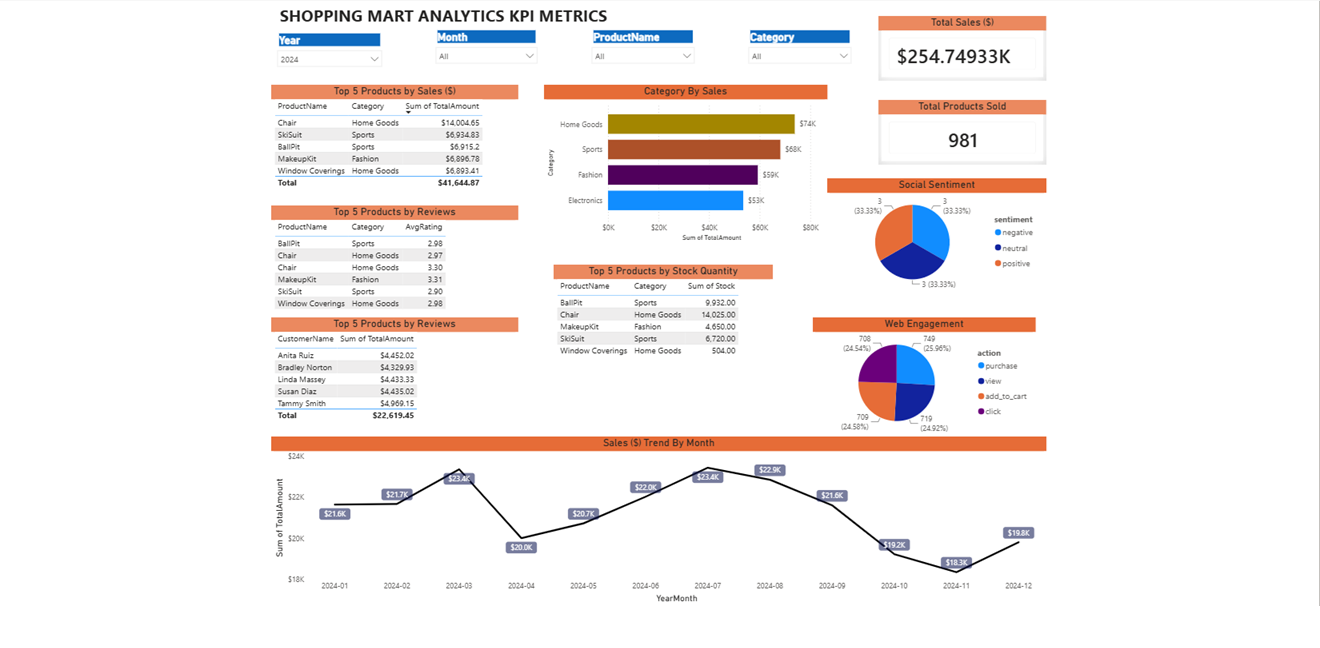

What the dashboard file says about the page in this screenshot:
{"tool":"powerbi","page":{"name":"Page 1","canvas":[1280,1000],"ordinal":0},"visuals":[{"type":"textbox","box":[9.6,0,629.8,49.4],"z":0},{"type":"cardVisual","title":"Total Sales ($)","fields":{"Data":["Sum(shoppingmart_gold_orders.TotalAmount)"]},"box":[1003.1,24.7,277.2,107],"z":1000},{"type":"cardVisual","title":"Total Products Sold","fields":{"Data":["CountNonNull(shoppingmart_gold_orders.ProductID)"]},"box":[1003.1,163.3,277.2,107],"z":2000},{"type":"slicer","fields":{"Values":["Datetable.Year"]},"box":[0,49.4,193.5,89.2],"z":3000},{"type":"slicer","fields":{"Values":["Datetable.Month"]},"box":[262,43.2,188.3,88.1],"z":4000},{"type":"slicer","fields":{"Values":["shoppingmart_gold_orders.ProductName"]},"box":[518.9,43.2,190,88.1],"z":5000},{"type":"slicer","fields":{"Values":["shoppingmart_gold_orders.Category"]},"box":[777.5,43.2,190,88.1],"z":6000},{"type":"tableEx","title":"Top 5 Products by Sales ($)","fields":{"Values":["shoppingmart_gold_orders.ProductName","shoppingmart_gold_orders.Category","Sum(shoppingmart_gold_orders.TotalAmount)"]},"box":[0,138.6,407.5,197.6],"z":7000},{"type":"tableEx","title":"Top 5 Products by Reviews","fields":{"Values":["shoppingmart_gold_orders.ProductName","shoppingmart_gold_orders.Category","shoppingmart_gold_reviews.AvgRating"]},"box":[0,337.6,407.5,197.6],"z":7001},{"type":"tableEx","title":"Top 5 Products by Reviews","fields":{"Values":["shoppingmart_gold_orders.CustomerName","Sum(shoppingmart_gold_orders.TotalAmount)"]},"box":[0,522.8,407.5,197.6],"z":7002},{"type":"clusteredBarChart","title":"Category By Sales ","fields":{"Category":["shoppingmart_gold_orders.Category"],"Y":["Sum(shoppingmart_gold_orders.TotalAmount)"]},"box":[450.1,138.6,467.9,263.5],"z":7003},{"type":"tableEx","title":"Top 5 Products by Stock Quantity","fields":{"Values":["shoppingmart_gold_orders.ProductName","shoppingmart_gold_orders.Category","Sum(shoppingmart_gold_orders.Stock)"]},"box":[466.6,436.4,362.3,192.1],"z":7004},{"type":"pieChart","title":"Social Sentiment","fields":{"Category":["shoppingmart_gold_social_media.sentiment","shoppingmart_gold_social_media.platform"],"Y":["CountNonNull(shoppingmart_gold_social_media.sentiment)"]},"box":[918,293.7,362.3,192.1],"z":7005},{"type":"pieChart","title":"Web Engagement","fields":{"Category":["shoppingmart_gold_web_logs.action"],"Y":["CountNonNull(shoppingmart_gold_web_logs.count)"]},"box":[894.7,522.8,367.8,197.6],"z":7006},{"type":"lineChart","title":"Sales ($) Trend By Month","fields":{"Category":["Datetable.YearMonth"],"Y":["Sum(shoppingmart_gold_orders.TotalAmount)"]},"box":[0,720.5,1280.2,279.9],"z":7007}]}

Visuals, with their boxes on the page's 1280x1000 design canvas (x1, y1, x2, y2). These are canvas units, not pixel positions in the 1320x648 screenshot, which may show the page scaled, cropped or inside an application window:
textbox: bbox=(10, 0, 639, 49)
"Total Sales ($)" cardVisual: bbox=(1003, 25, 1280, 132)
"Total Products Sold" cardVisual: bbox=(1003, 163, 1280, 270)
slicer - Datetable.Year: bbox=(0, 49, 194, 139)
slicer - Datetable.Month: bbox=(262, 43, 450, 131)
slicer - shoppingmart_gold_orders.ProductName: bbox=(519, 43, 709, 131)
slicer - shoppingmart_gold_orders.Category: bbox=(778, 43, 968, 131)
"Top 5 Products by Sales ($)" tableEx: bbox=(0, 139, 408, 336)
"Top 5 Products by Reviews" tableEx: bbox=(0, 338, 408, 535)
"Top 5 Products by Reviews" tableEx: bbox=(0, 523, 408, 720)
"Category By Sales " clusteredBarChart: bbox=(450, 139, 918, 402)
"Top 5 Products by Stock Quantity" tableEx: bbox=(467, 436, 829, 628)
"Social Sentiment" pieChart: bbox=(918, 294, 1280, 486)
"Web Engagement" pieChart: bbox=(895, 523, 1262, 720)
"Sales ($) Trend By Month" lineChart: bbox=(0, 720, 1280, 1000)
